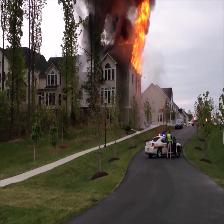fire: (133, 0, 150, 72)
smoke: (85, 1, 132, 43)
